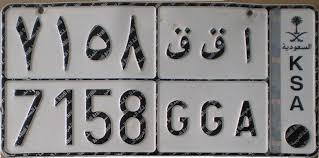1: (53, 15, 75, 146)
5: (83, 24, 114, 147)
7: (13, 15, 44, 147)
8: (118, 14, 148, 146)
A: (234, 26, 258, 138)
G: (200, 27, 228, 137), (166, 26, 193, 137)
